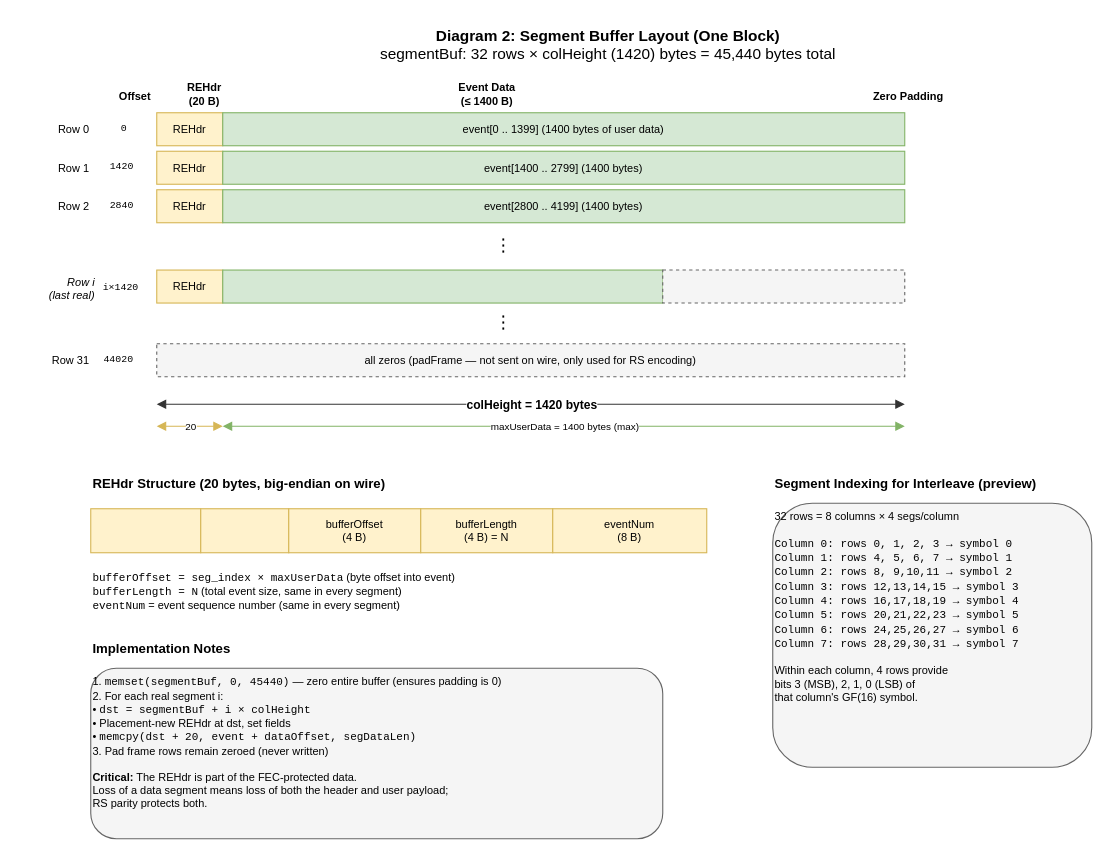
This 1111x858 diagram has some shape labels left out. The shapes that lost their labels are listed below. From the top down, each one's box as (x1, y1, x2, y2) in pixels, then its label:
(222, 269, 663, 303): event[i×1400 .. end] (≤ 1400 B)
(662, 269, 905, 303): zero padding (padBytes)
(90, 508, 201, 553): preamble[2] (0x10, 0x00)
(200, 508, 289, 553): dataId (2 B)
